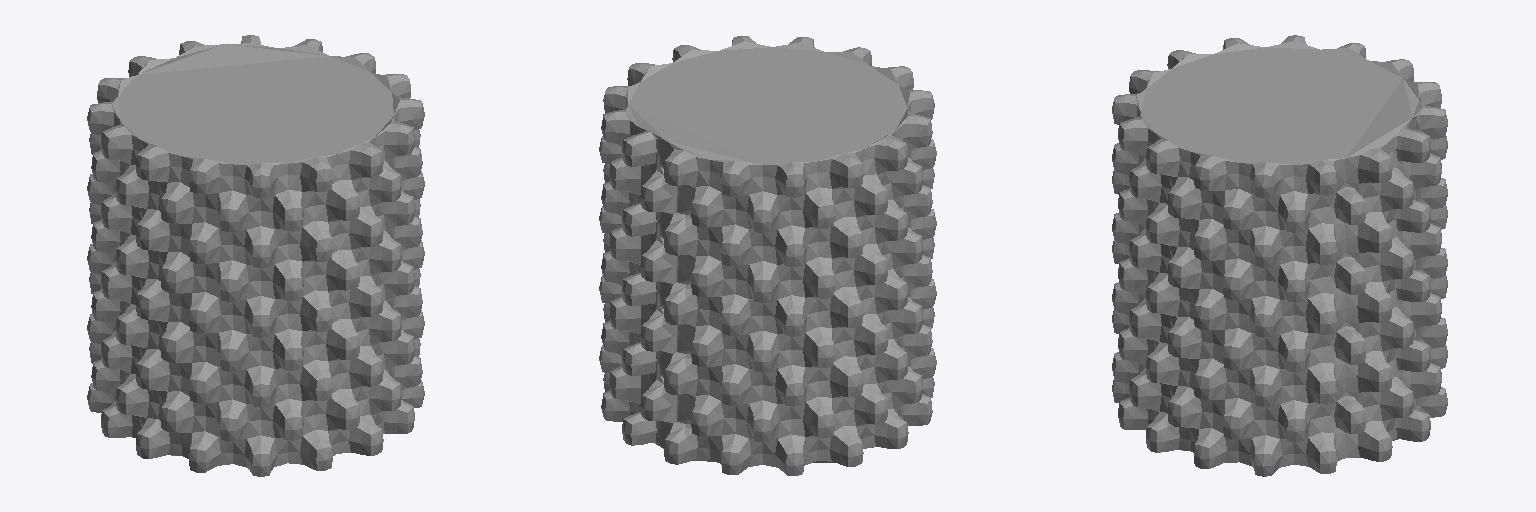
Rendered from crusher.obj.
The picture shows the model from 3 angles: view 1: azimuth 30°, elevation 25°; view 2: azimuth 150°, elevation 25°; view 3: azimuth 270°, elevation 25°; orthographic projection.
Parts seen in each view (by area): view 1: Crusher_Circle.001; view 2: Crusher_Circle.001; view 3: Crusher_Circle.001.
Part boxes in pixels (bbox=[...]): Crusher_Circle.001: bbox=[87, 35, 424, 476]; Crusher_Circle.001: bbox=[599, 36, 936, 475]; Crusher_Circle.001: bbox=[1112, 35, 1447, 476].
Bounding box in the file's own units: 0.973 × 0.9881 × 0.973.